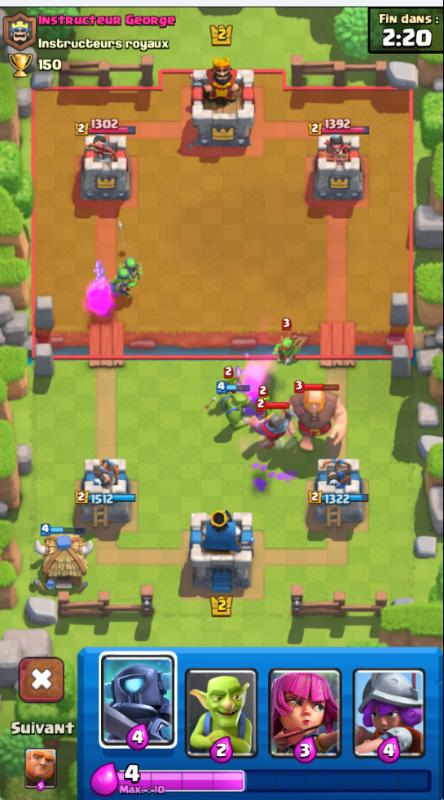chevalier: (245, 400, 294, 454)
geant: (290, 377, 349, 457)
gobelin: (253, 389, 273, 421), (219, 371, 243, 392)
gobelin_lances: (269, 329, 306, 367), (113, 252, 145, 287), (109, 269, 136, 299)
